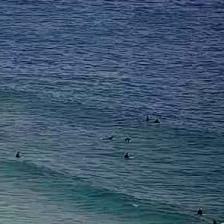surfer: (101, 136, 113, 141), (196, 208, 202, 216), (152, 118, 160, 124), (15, 152, 21, 159), (145, 114, 150, 122), (124, 153, 130, 159), (124, 138, 131, 143), (212, 220, 219, 224)
